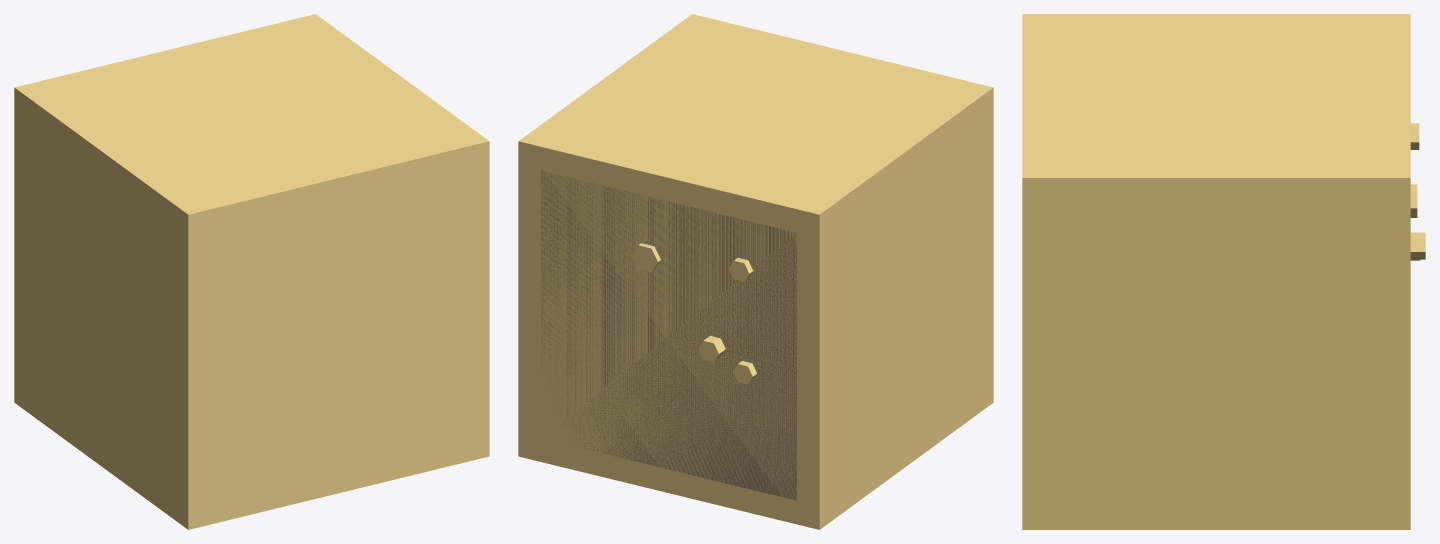
The model's file is 49_sunfan_coral.glb.
3 renders of one model, left to right at view 1: azimuth 30°, elevation 25°; view 2: azimuth 150°, elevation 25°; view 3: azimuth 270°, elevation 25°, orthographic. The views are drawn at different scales.
Parts seen in each view (by area): view 1: Core; view 2: Core, Soil, Coral_4; view 3: Core.
Part boxes in pixels (x1,y1,x2,y2): Core: [14, 14, 489, 529]; Core: [518, 14, 993, 529]; Soil: [541, 170, 796, 500]; Coral_4: [631, 243, 660, 272]; Core: [1022, 14, 1410, 529].
Size of the model in its own units: 1 by 1 by 1.04.
